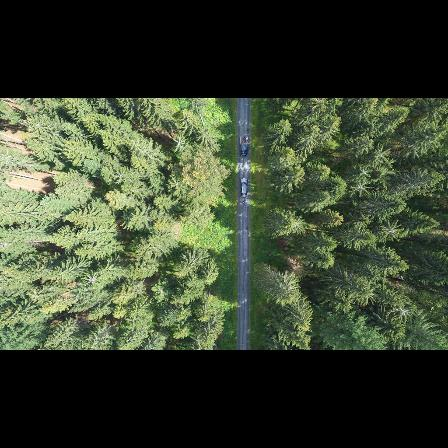Sick: (376, 219, 406, 242), (390, 301, 416, 326), (286, 210, 311, 234), (345, 177, 373, 198), (79, 268, 102, 292), (168, 131, 191, 154), (368, 144, 394, 163), (352, 162, 374, 179)
